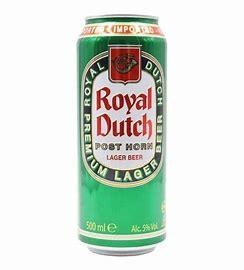metal: (78, 16, 167, 256)
